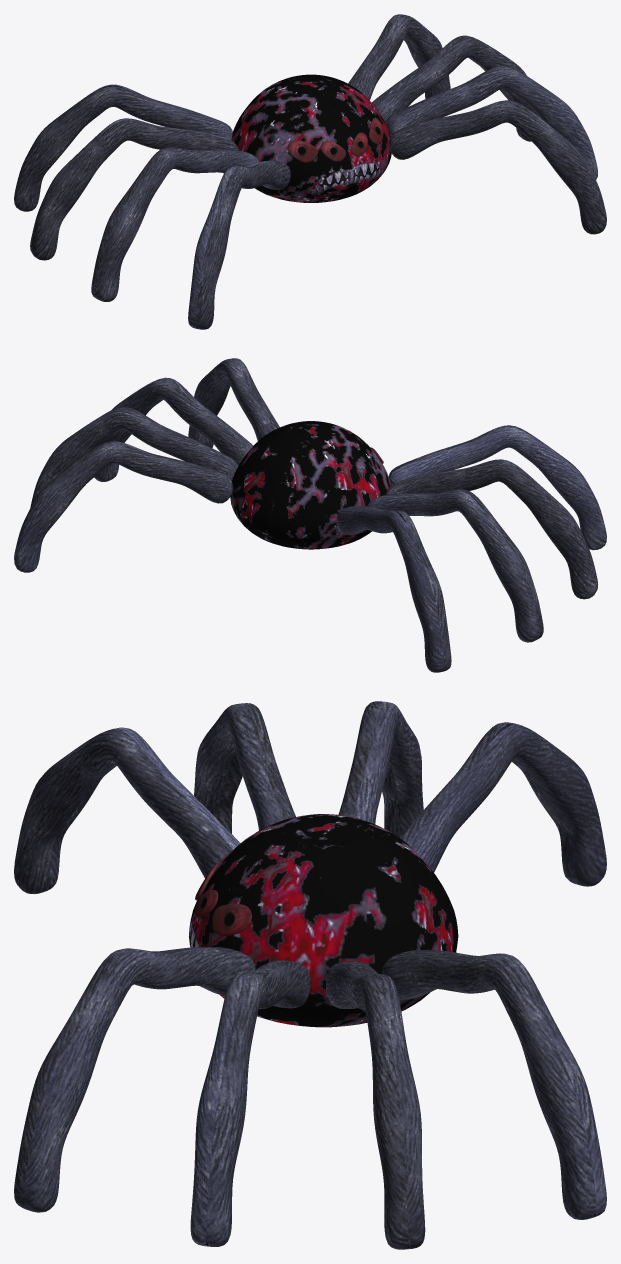
Rendered from spider.fbx.
3 renders of one model, top to bottom at view 1: azimuth 30°, elevation 25°; view 2: azimuth 150°, elevation 25°; view 3: azimuth 270°, elevation 25°, orthographic. The views are drawn at different scales.
Parts seen in each view (by area): view 1: Circle, Vert.001, Vert.002, Vert.003, Vert.004, Circle.001; view 2: Circle, Vert.004, Vert.003, Vert.002, Vert.001; view 3: Circle, Vert.001, Vert.004, Vert.002, Vert.003, Circle.001.
Boxes of the visible parts, left/top/right/bottom form: Circle: left=231, top=74, right=391, bottom=202; Vert.001: left=188, top=100, right=606, bottom=329; Vert.002: left=91, top=66, right=597, bottom=301; Vert.003: left=30, top=35, right=541, bottom=260; Vert.004: left=14, top=14, right=450, bottom=211; Circle.001: left=287, top=117, right=383, bottom=162; Circle: left=230, top=421, right=390, bottom=549; Vert.004: left=14, top=441, right=451, bottom=672; Vert.003: left=30, top=407, right=543, bottom=642; Vert.002: left=94, top=377, right=597, bottom=599; Vert.001: left=188, top=358, right=606, bottom=550; Circle: left=189, top=814, right=458, bottom=1027; Vert.001: left=14, top=727, right=255, bottom=1212; Vert.004: left=382, top=722, right=606, bottom=1219; Vert.002: left=190, top=703, right=310, bottom=1246; Vert.003: left=326, top=701, right=425, bottom=1249; Circle.001: left=195, top=852, right=251, bottom=936.
Bounding box in the file's own units: 570 × 143 × 347.
